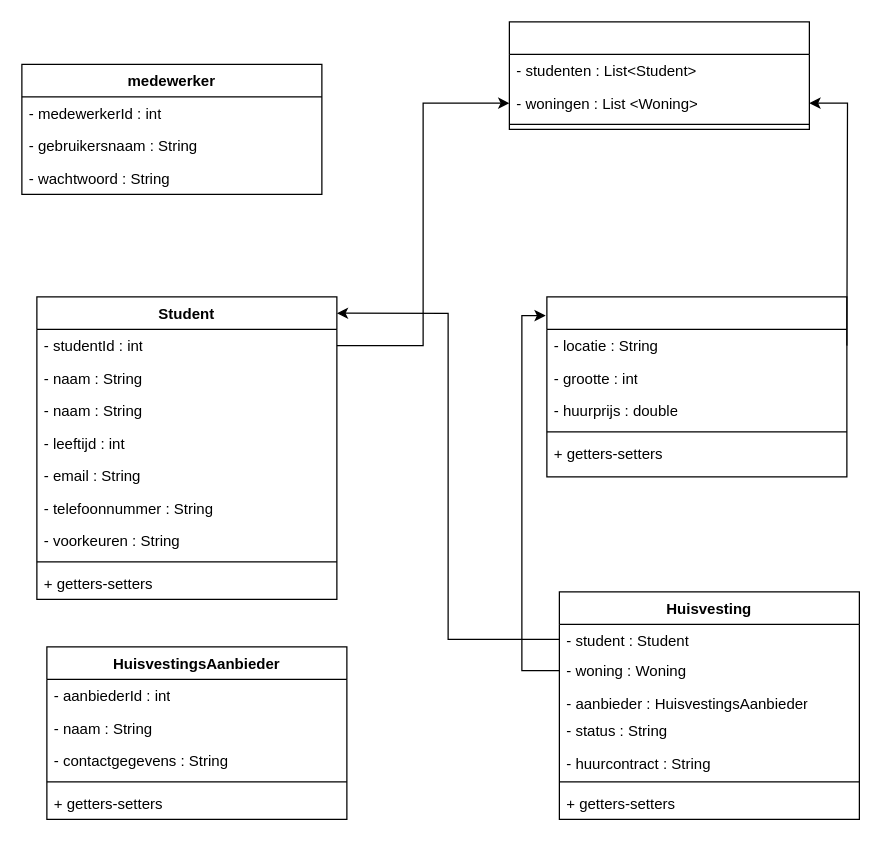
The diagram is 881 pixels wide and 845 high, and some of its shapes have lost their labels. The shapes that lost their labels are listed below. From the top down, each one's box as (x1, y1, x2, y2) in pixels, then its label:
(508, 21, 809, 129): HuisvestingsLijst
(546, 296, 847, 477): Woning
